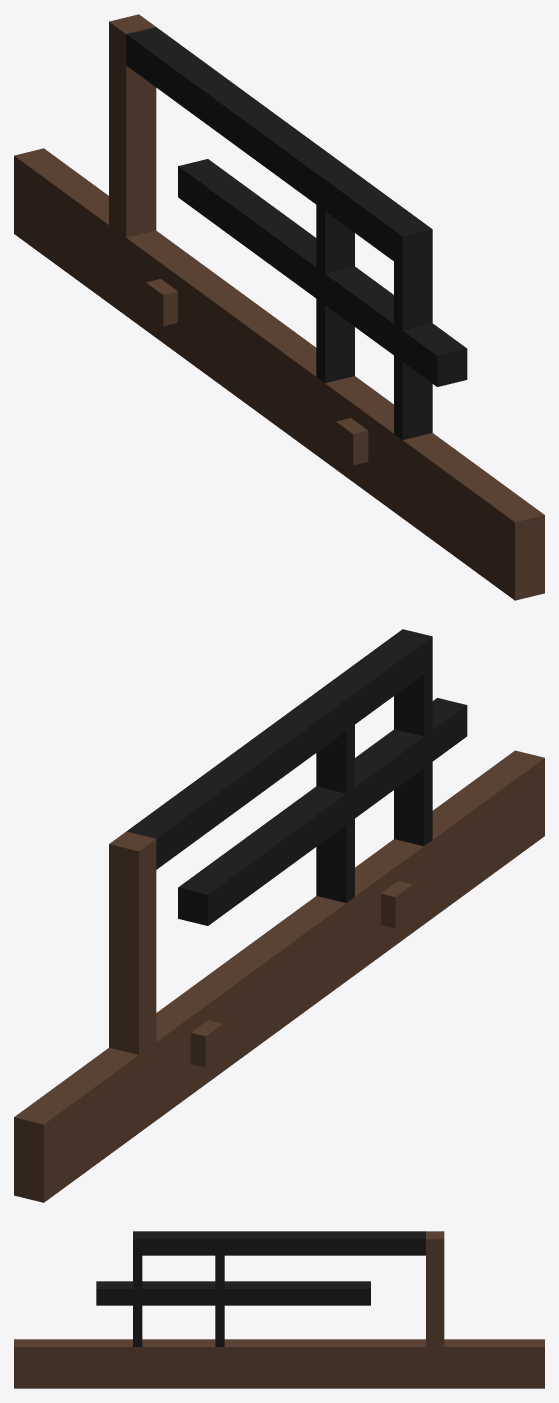
The model's file is technical_bull_bar.glb.
The picture shows the model from 3 angles, top to bottom: view 1: azimuth 30°, elevation 25°; view 2: azimuth 150°, elevation 25°; view 3: azimuth 270°, elevation 25°; orthographic projection. The views are drawn at different scales.
Parts seen in each view (by area): view 1: body:compound; view 2: body:compound; view 3: body:compound.
Part boxes in pixels (<box>): body:compound: <box>14,14,544,600</box>; body:compound: <box>14,629,544,1202</box>; body:compound: <box>14,1231,544,1388</box>.
Size of the model in its own units: 0.0938 by 0.5625 by 1.81.
